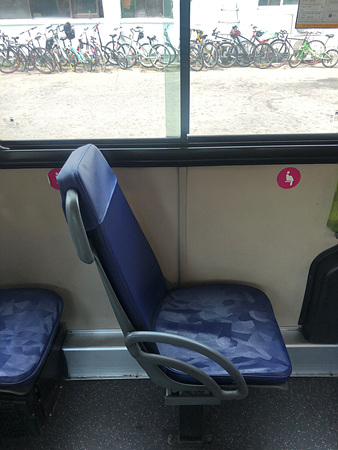seat: (61, 147, 291, 386)
